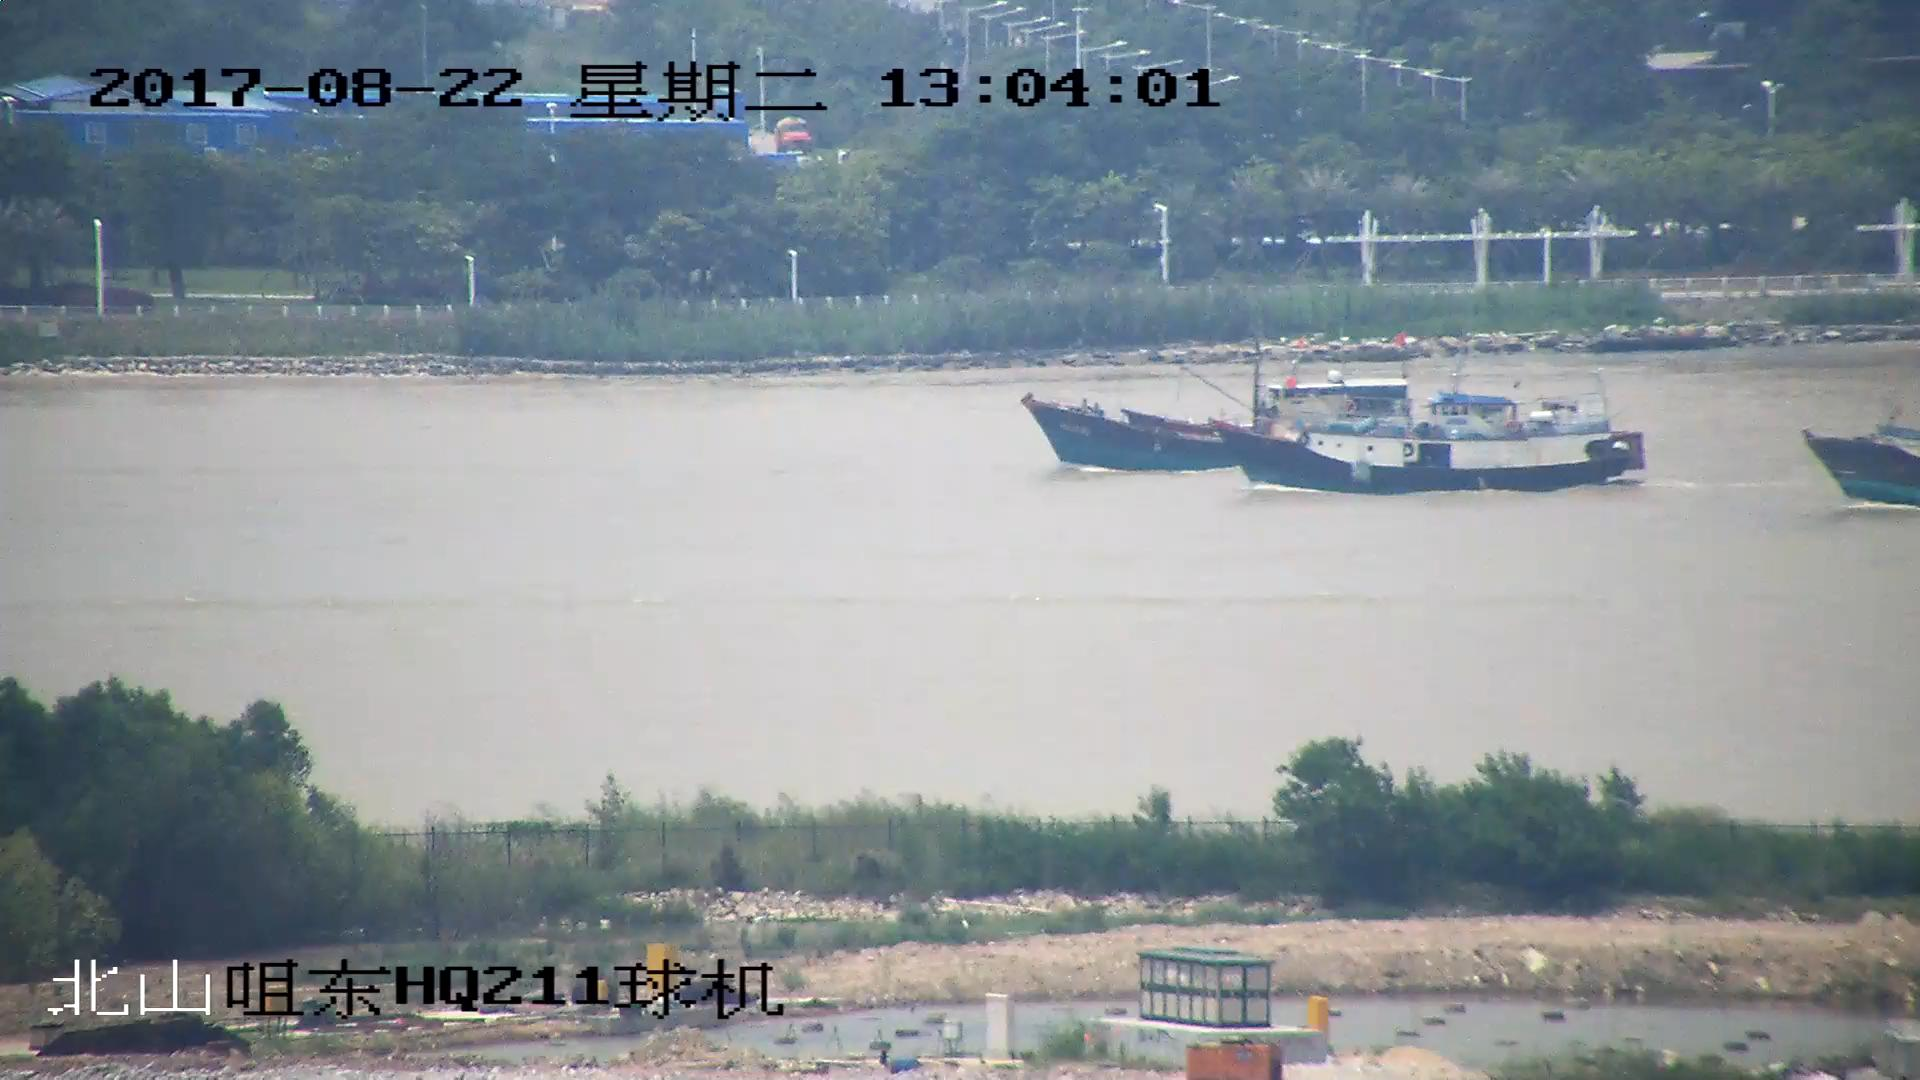fishing boat: (1206, 380, 1648, 490), (1023, 374, 1416, 471), (1814, 422, 1920, 509)
